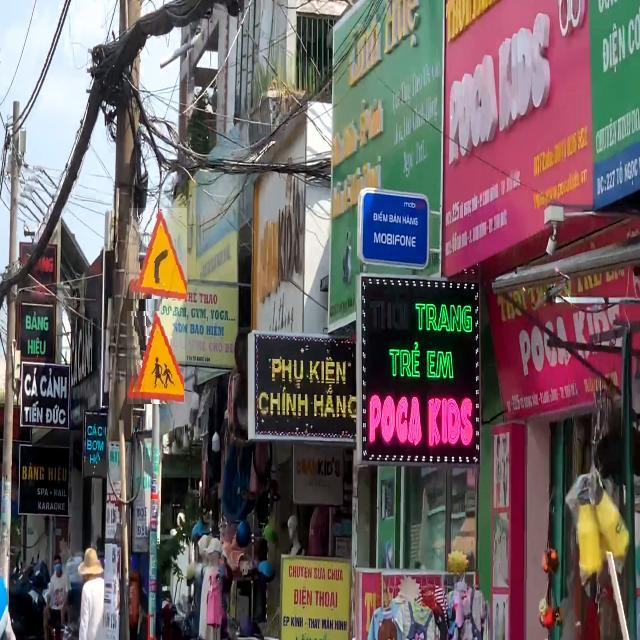W-201b: (129, 208, 187, 299)
W-225: (128, 311, 186, 404)
